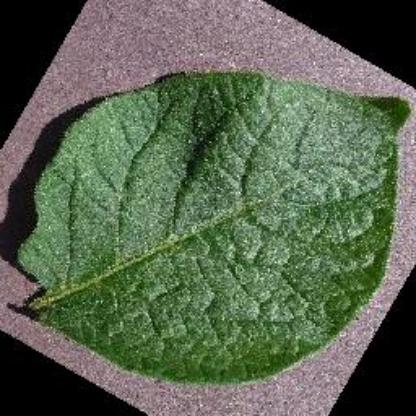Healthy-plant: (34, 23, 398, 400)
